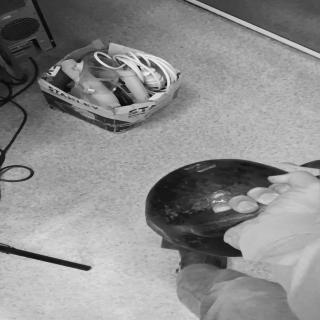kettlebell: (137, 154, 320, 262)
